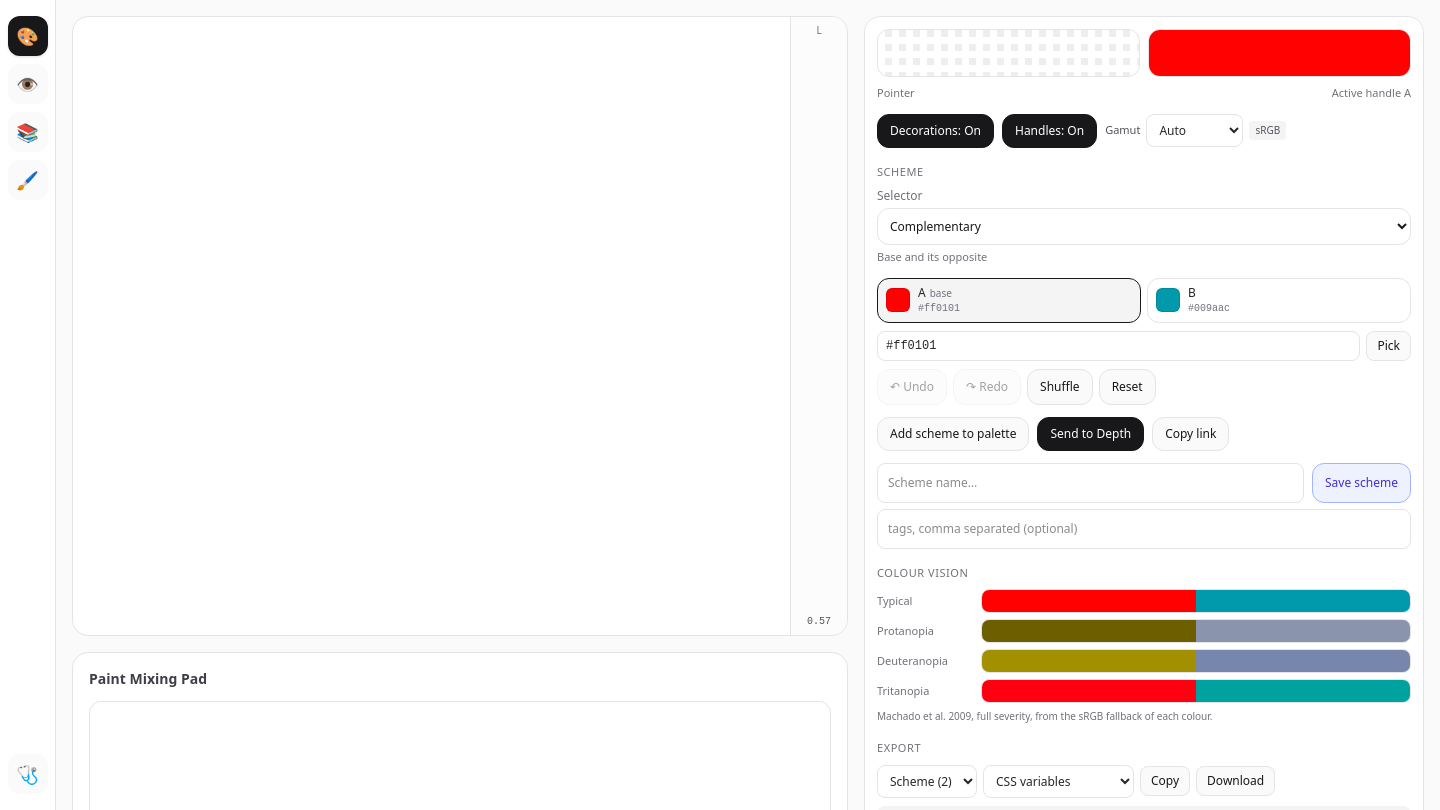
Test case: Library page › shows the five built-in starters with role previews and a depth verdict
Click the button named "scheme library" at (28, 132), box [8,112,48,152]
(page scrolled)
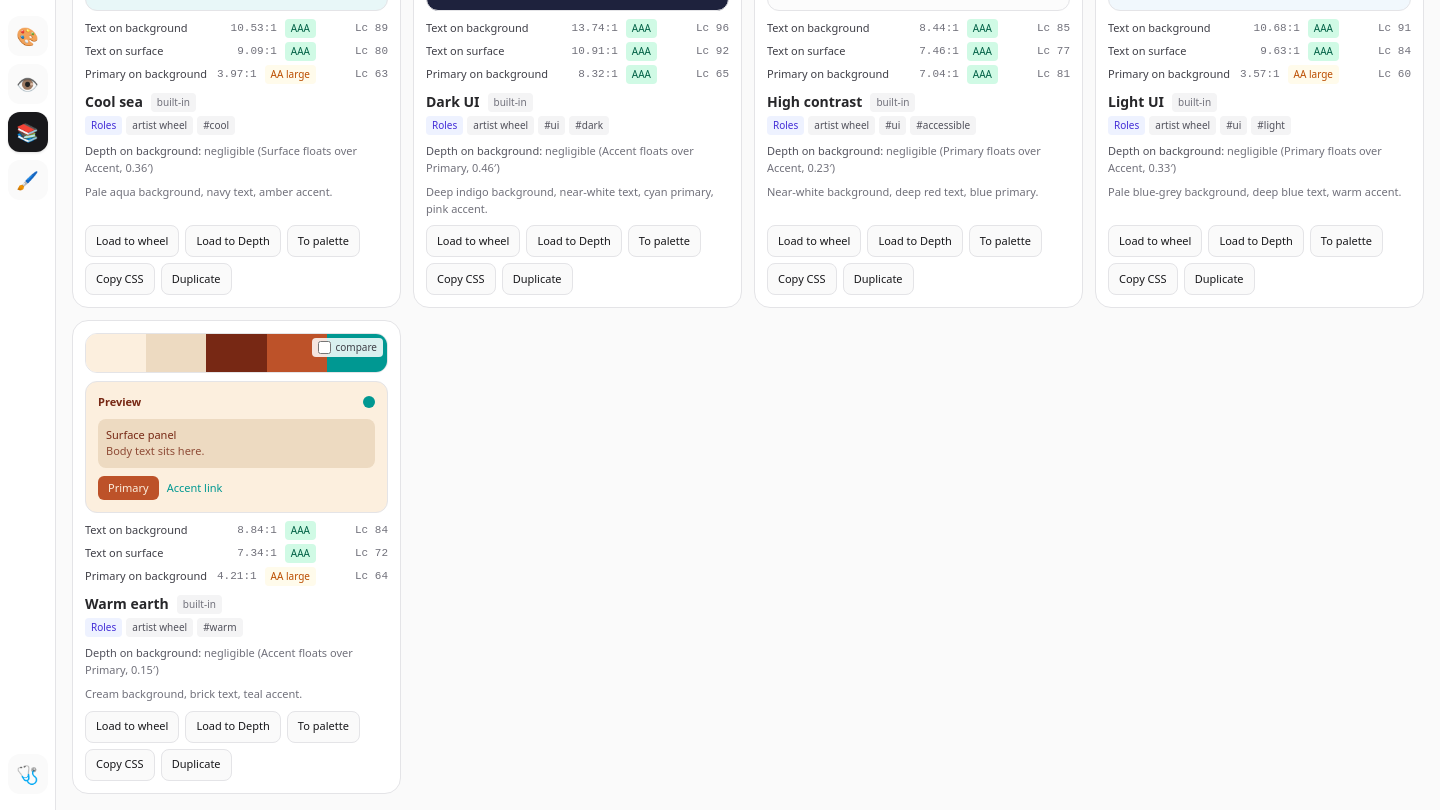
Expected: the number of elements named "Scheme preview" is 5
Expected: the element with test id "depth-verdict" reads "Depth on background: negligible (Surface floats over Accent, 0.36′)", [85,143,388,176]
Expected: the element with test id "depth-verdict" reads "Depth on background: negligible (Accent floats over Primary, 0.46′)", [426,143,729,176]
